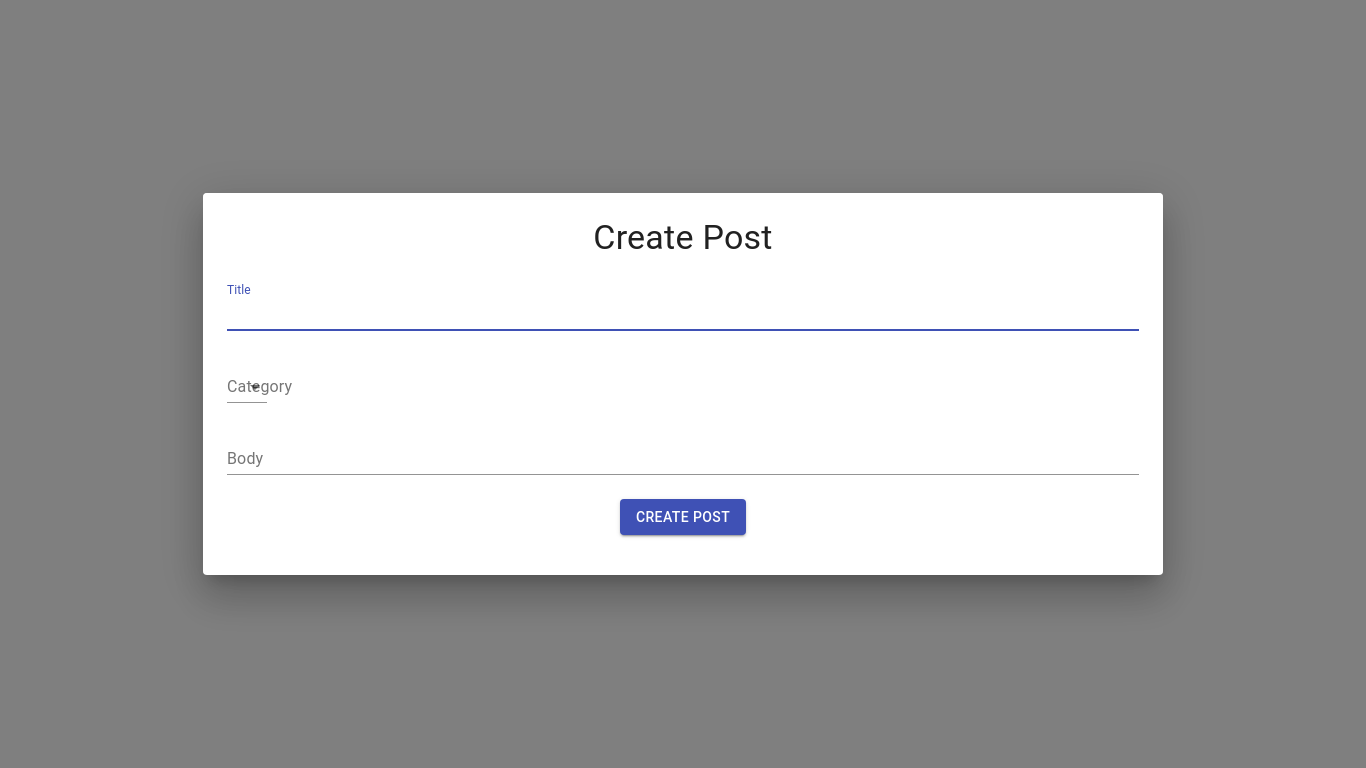
Test case: <CreatePostDialog /> › should list all subscribedCategoryIds in category input
This screenshot has width=1366, height=768.
Type "test" into the field labelled "Title".
click(683, 315); type("test")  # box x1=227 y1=299 x2=1139 y2=331
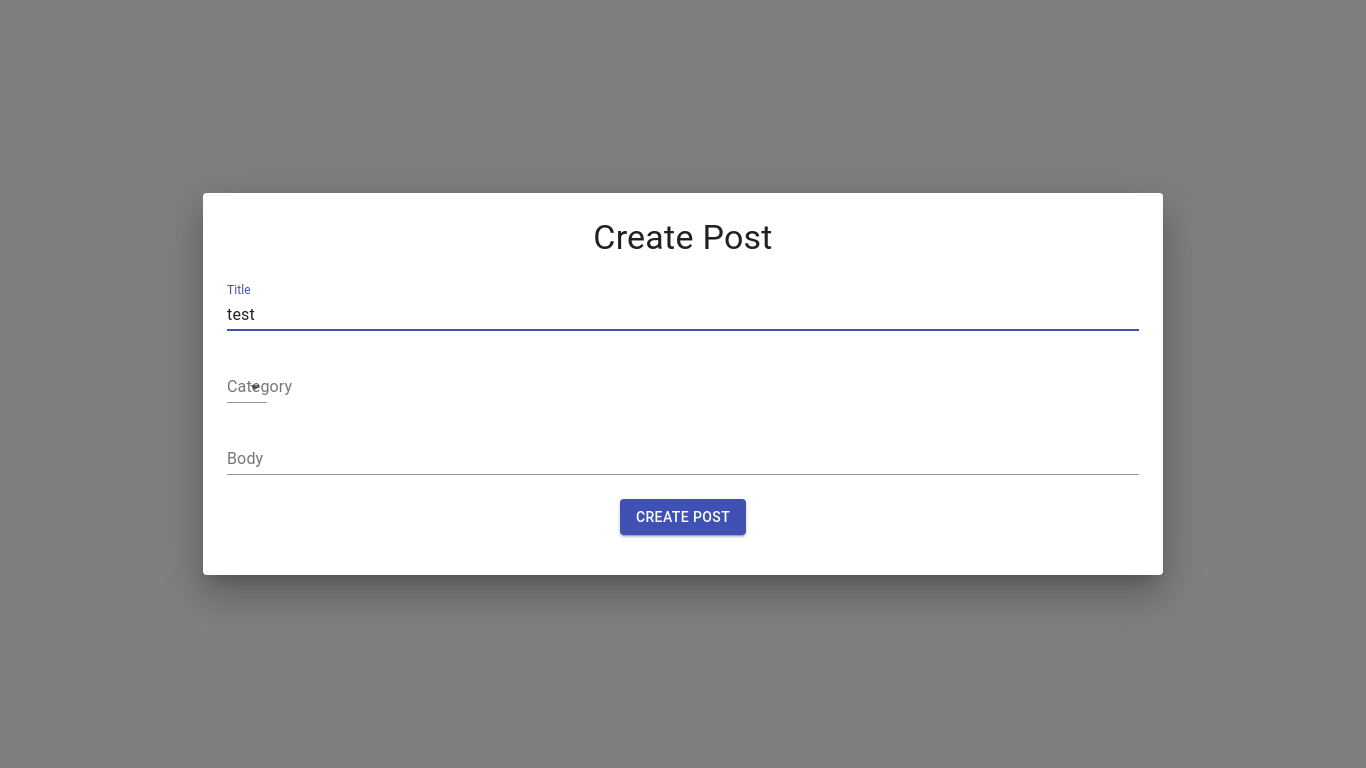
Press the mouse on the button named "category" at (247, 387), box x1=227 y1=371 x2=267 y2=403
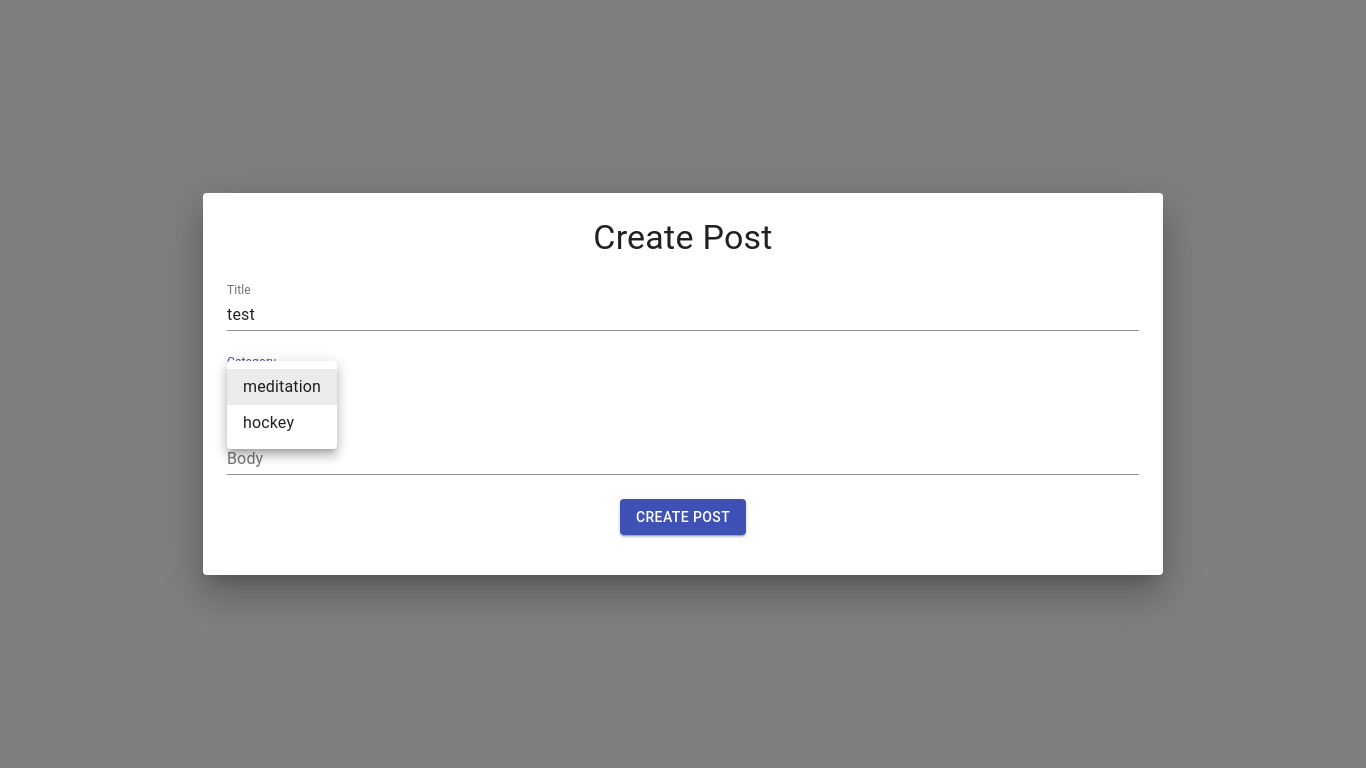
Expected: the option "meditation" is shown, x1=227 y1=369 x2=337 y2=405
Expected: the option "hockey" is shown, x1=243 y1=413 x2=294 y2=432
